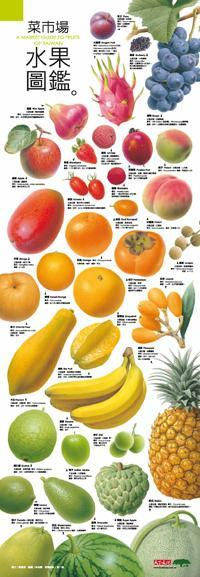apple: (21, 136, 62, 179), (90, 13, 116, 40)
